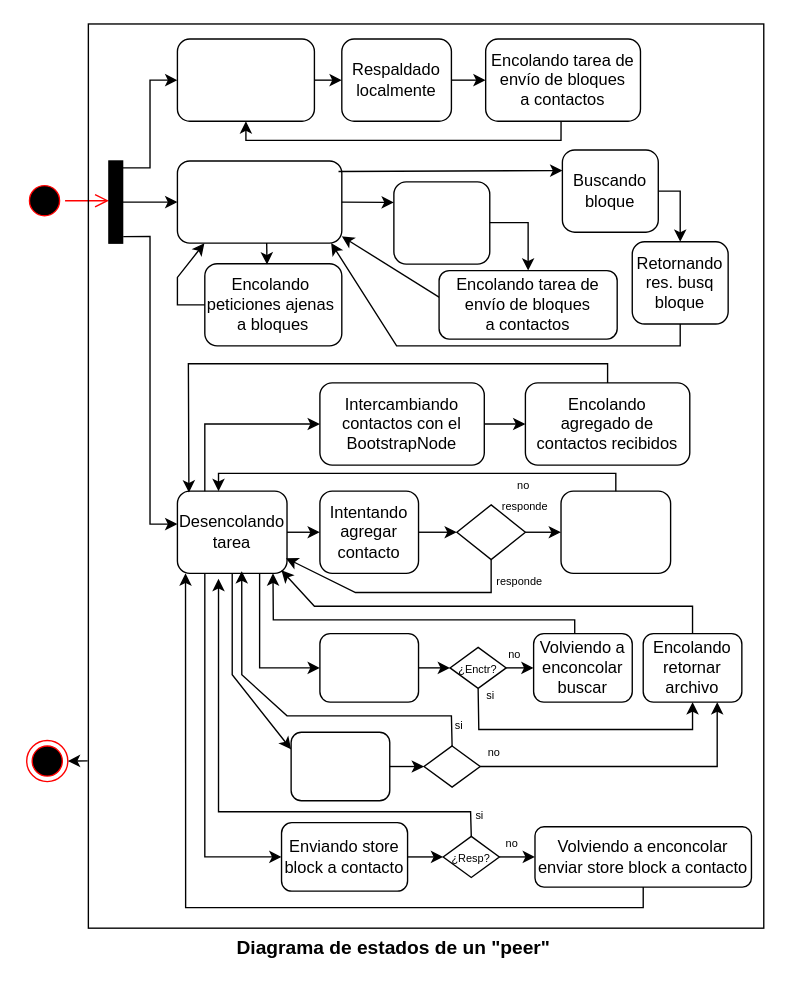
The diagram is 788 pixels wide and 999 high, and some of its shapes have lost their labels. Each missing label, with the centre of its shape:
"Buscando archivo" goes at point 369,667.
"Escuchando peticiones gRPC" goes at point 259,201.
"Esperando recibir archivos por TCP" goes at point 245,79.
"Guardando bloque localmente" goes at point 441,222.
"ping" goes at point 490,531.
"Retornando archivo" goes at point 340,766.
"Volviendo a encolar agregado de contacto" goes at point 615,531.
"¿Ret?" goes at point 451,766.
